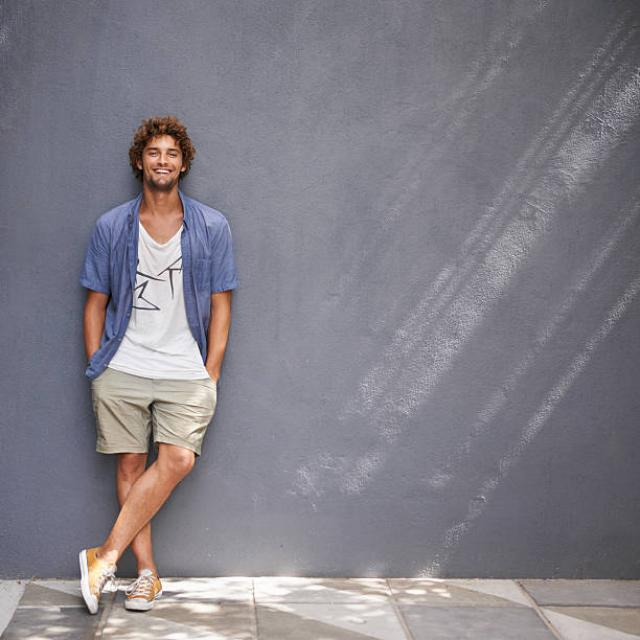Real human 2: (59, 97, 278, 630)
